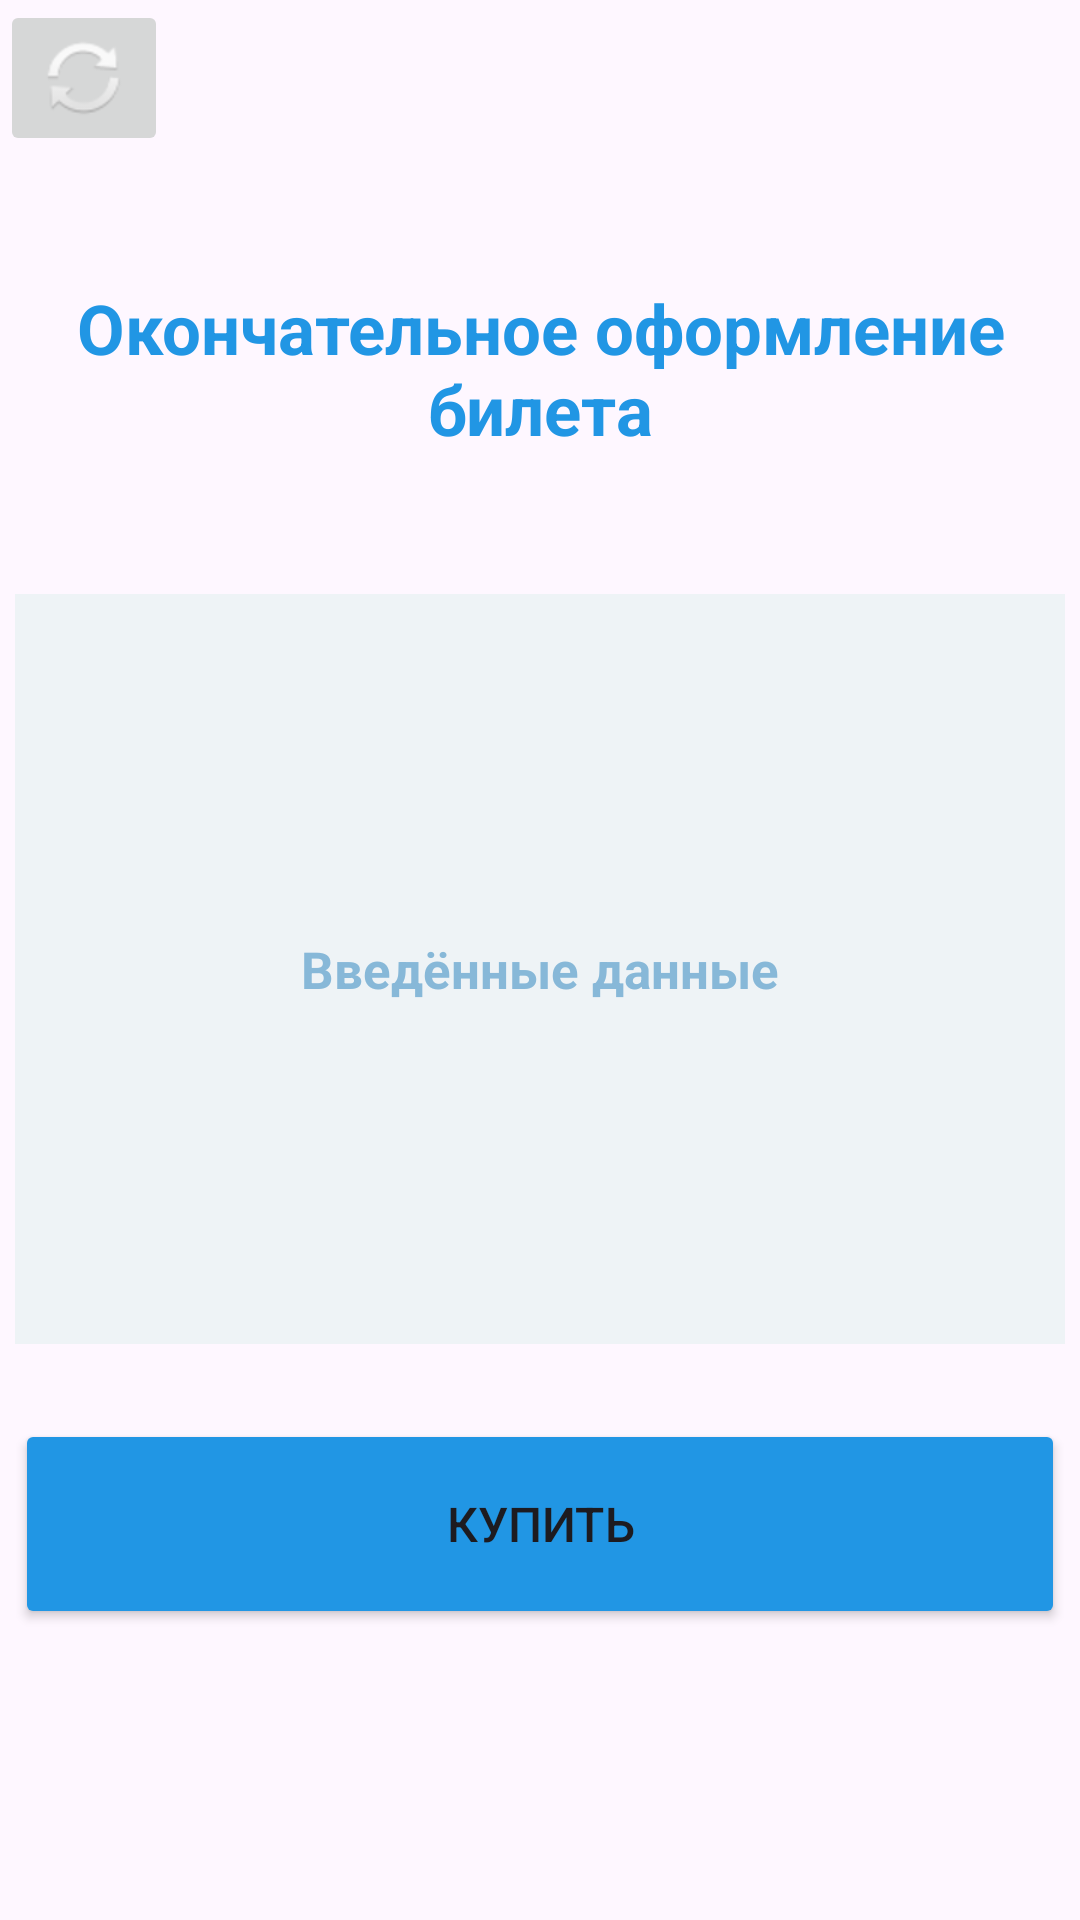

Named icons in this screenshot (1080 × 1920) and their centers, (x,y):
popup sync: (84,78)
